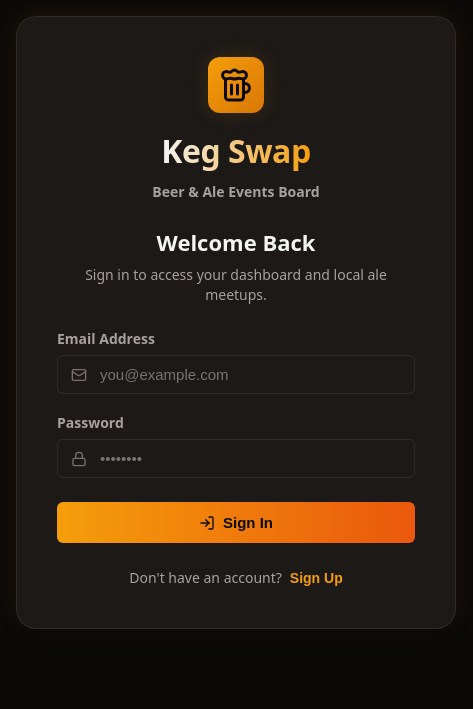
Test: AuthScreen › Firebase error code mapping › falls back to error message if code is unknown
The width and height of the screenshot is (473, 709).
In the field labelled "Email Address": (236, 375) [57, 355, 415, 394], type "test@keg.com"
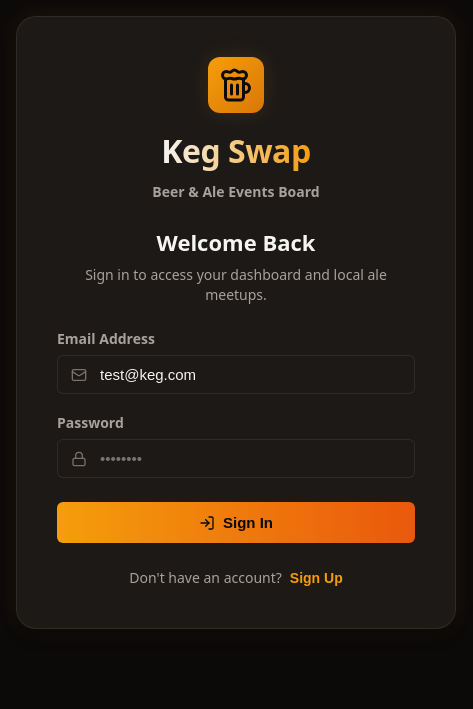
In the password field labelled "Password": (236, 459) [57, 439, 415, 478], type "password123"
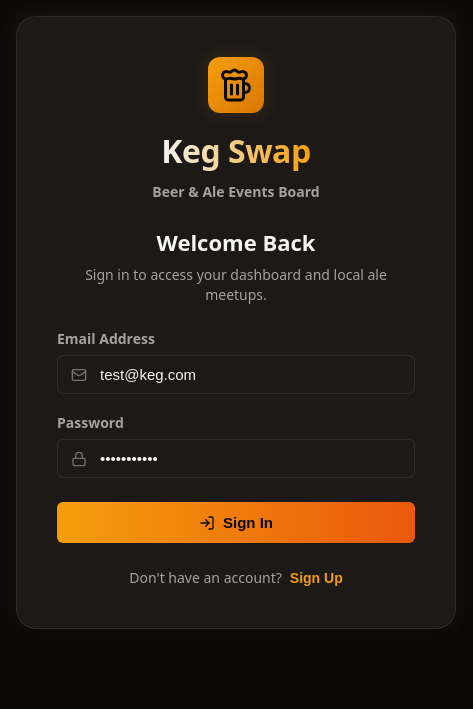
Click the button "Sign In": (236, 523) [57, 502, 415, 543]
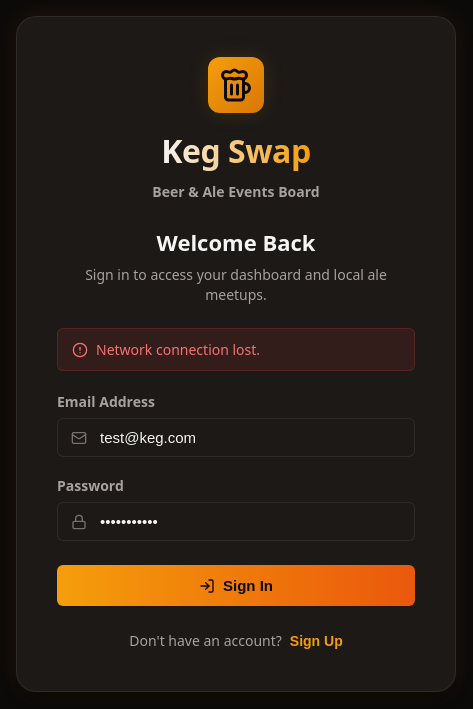
expect the text "Network connection lost." is shown: met, box [96, 339, 260, 360]
